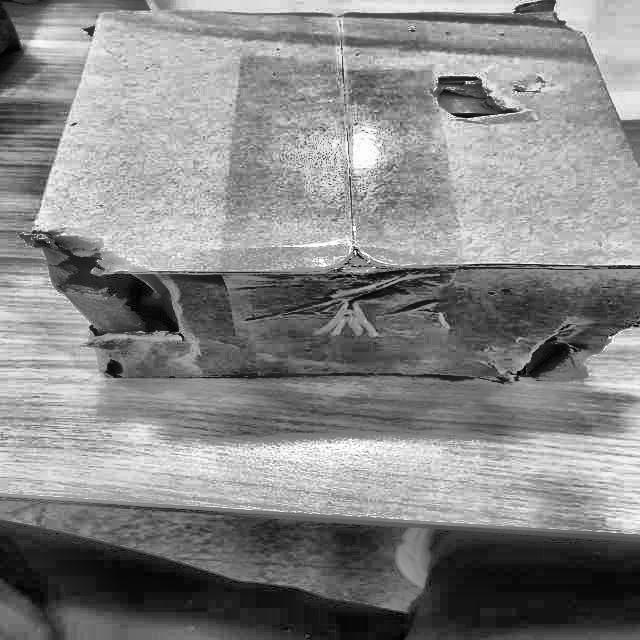box: (20, 11, 639, 397)
hole: (52, 240, 194, 335), (430, 70, 515, 118), (532, 330, 610, 380)
